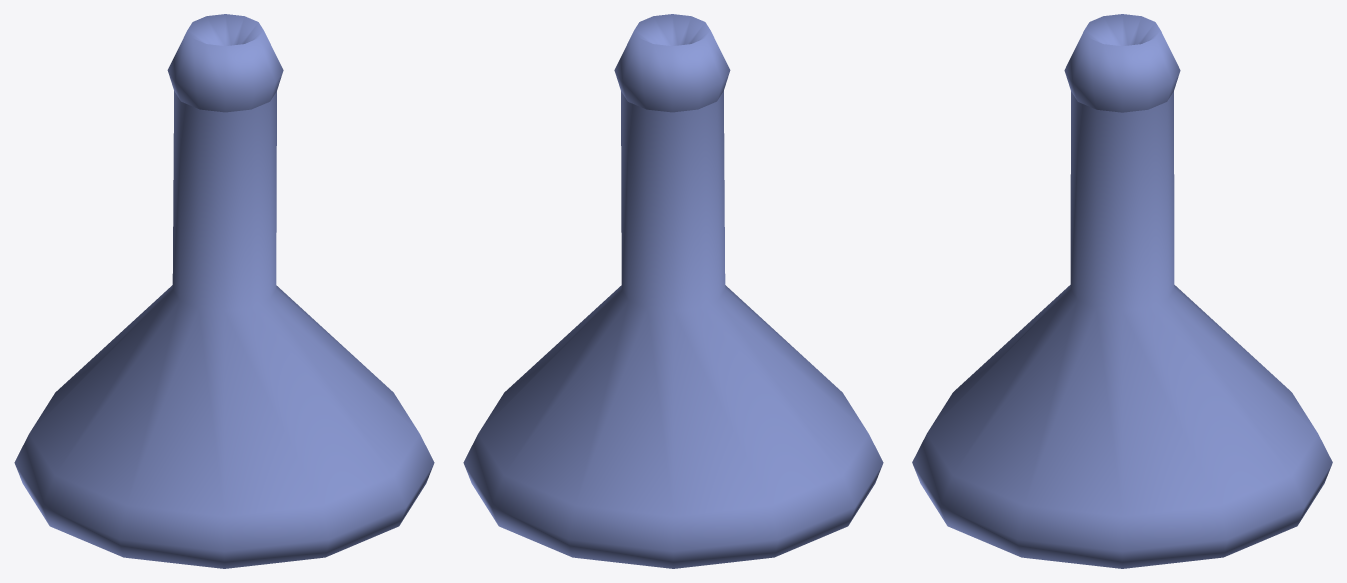
Rendered from Flask.fbx.
The picture shows the model from 3 angles, left to right: view 1: azimuth 30°, elevation 25°; view 2: azimuth 150°, elevation 25°; view 3: azimuth 270°, elevation 25°; orthographic projection.
Parts seen in each view (by area): view 1: Flask; view 2: Flask; view 3: Flask.
Part boxes in pixels (x1,y1,x2,y2): Flask: (14, 14, 434, 568); Flask: (463, 14, 883, 568); Flask: (912, 14, 1332, 568).
Bounding box in the file's own units: 0.3159 × 0.3807 × 0.3159.
